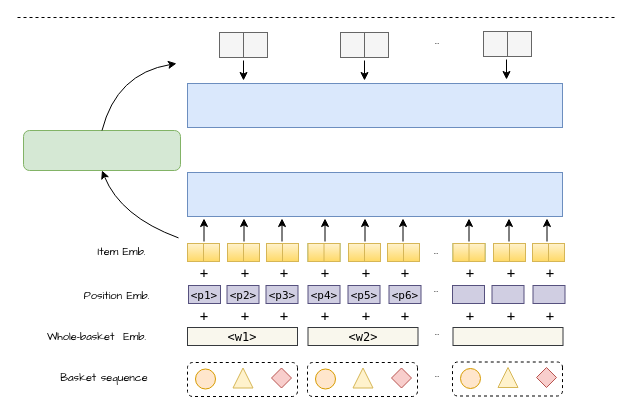
This 636x414 diagram has some shape labels left out. Here are the shapes that lost their labels. From the top down, the centre of each, then its label:
point 374,105: Basket-level Encoder
point 101,150: Aggregating items as a basket
point 374,194: Item-level Encoder
